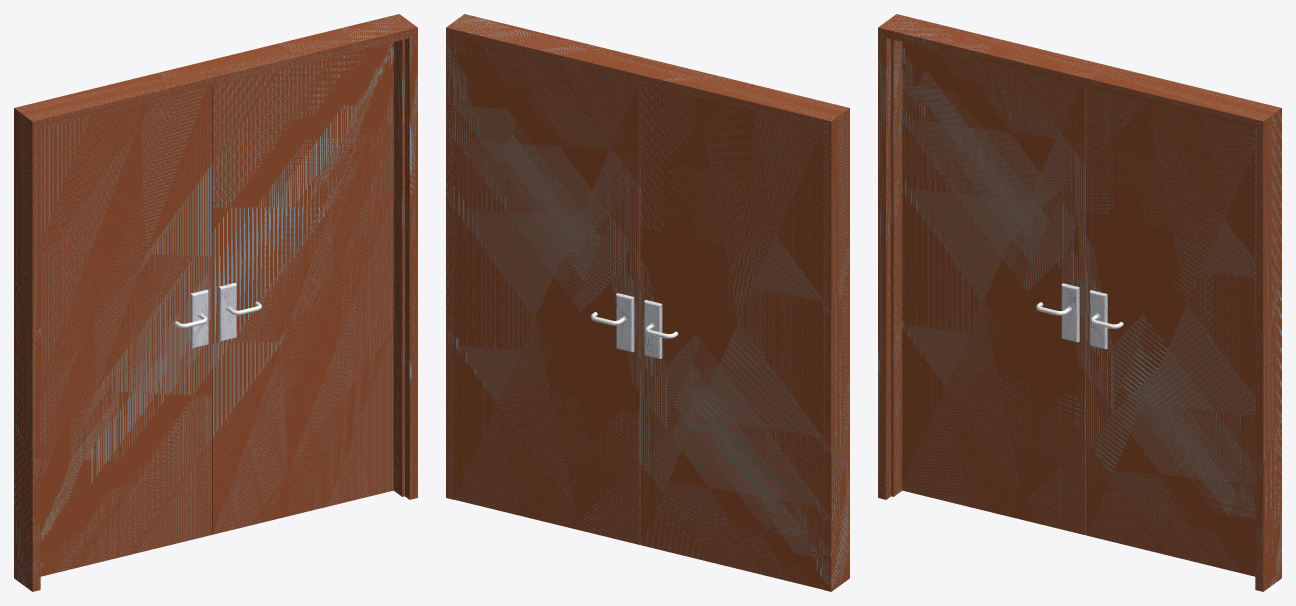
File: Double+Door.fbx
The picture shows the model from 3 angles, left to right: view 1: azimuth 30°, elevation 25°; view 2: azimuth 150°, elevation 25°; view 3: azimuth 330°, elevation 25°; orthographic projection.
Parts seen in each view (by area): view 1: Group2, Group19, Group18, Group9, Group14; view 2: Group2, Group19, Group18, Group4, Group21; view 3: Group19, Group2, Group18, Group14, Group9.
Part boxes in pixels (x1=…): Group2: x1=212, y1=42, x2=393, y2=534; Group19: x1=40, y1=86, x2=212, y2=576; Group18: x1=14, y1=14, x2=417, y2=591; Group9: x1=218, y1=283, x2=236, y2=341; Group14: x1=190, y1=289, x2=208, y2=348; Group2: x1=454, y1=38, x2=640, y2=544; Group19: x1=640, y1=83, x2=823, y2=589; Group18: x1=446, y1=14, x2=849, y2=591; Group4: x1=616, y1=293, x2=634, y2=352; Group21: x1=644, y1=300, x2=662, y2=358; Group19: x1=902, y1=42, x2=1085, y2=534; Group2: x1=1085, y1=87, x2=1255, y2=576; Group18: x1=878, y1=14, x2=1281, y2=591; Group14: x1=1061, y1=283, x2=1079, y2=342; Group9: x1=1089, y1=290, x2=1107, y2=349.
Size of the model in its own units: 1800 by 2100 by 230.
